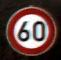Speed Limit -60-: (3, 4, 57, 56)
